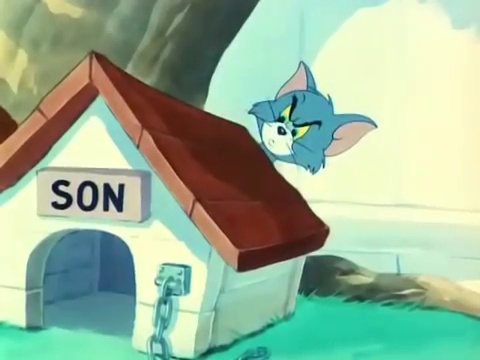tom: (243, 60, 378, 175)
